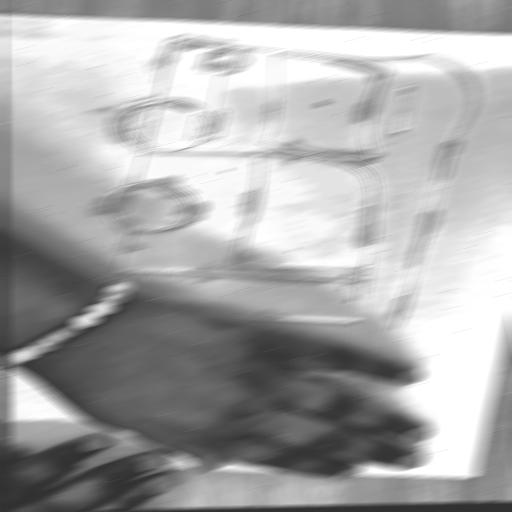bus: (49, 0, 489, 512)
top_left: (464, 473, 485, 481)
